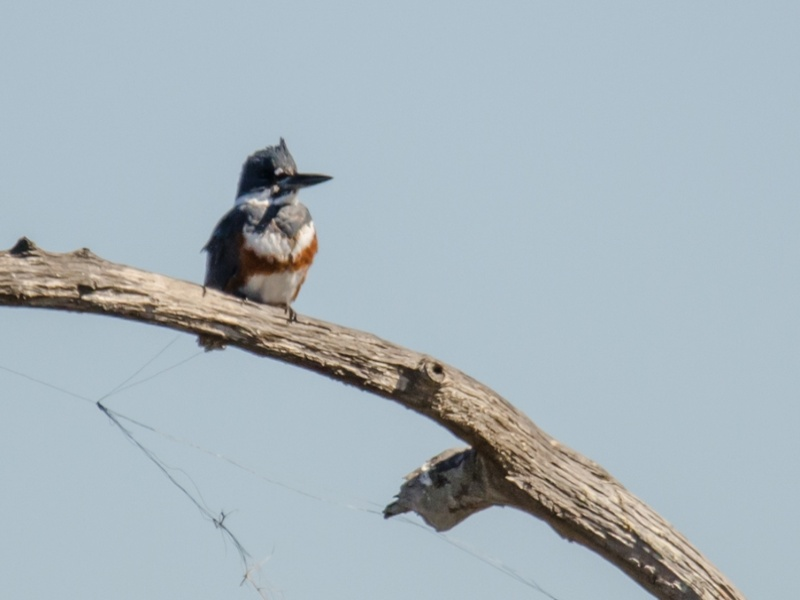kingfisher: (192, 135, 335, 353)
